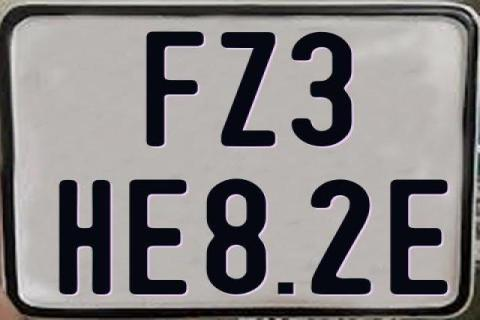0: (206, 178, 270, 296), (310, 177, 372, 297), (290, 32, 352, 151)
E: (126, 178, 189, 296), (390, 179, 452, 295)
F: (146, 29, 206, 149)
H: (58, 180, 110, 294)
Z: (219, 31, 278, 146)
